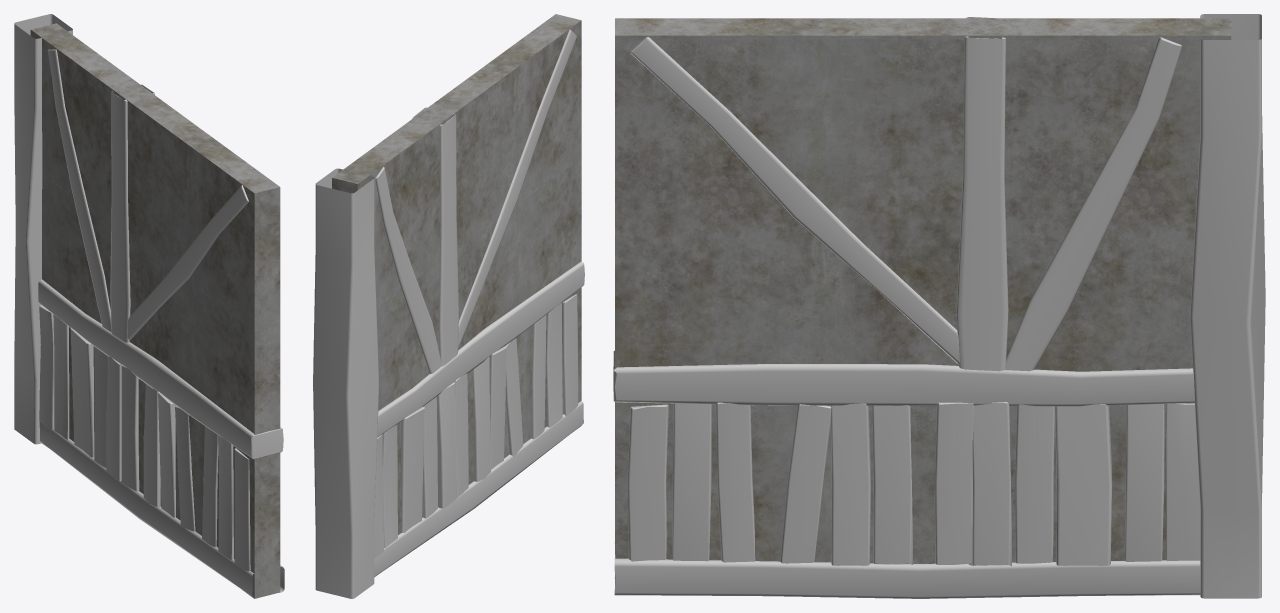
File: SM_Wall13.fbx
The picture shows the model from 3 angles, left to right: view 1: azimuth 30°, elevation 25°; view 2: azimuth 150°, elevation 25°; view 3: azimuth 270°, elevation 25°; orthographic projection. The views are drawn at different scales.
Visible parts, largest first — view 1: SM_Wall13_LOD0; view 2: SM_Wall13_LOD0; view 3: SM_Wall13_LOD0.
Boxes of the visible parts, x1,y1,x2,y2 form: SM_Wall13_LOD0: (14,14,284,598); SM_Wall13_LOD0: (313,14,584,598); SM_Wall13_LOD0: (613,14,1265,598).
Bounding box in the file's own units: 39.87 × 318 × 303.
